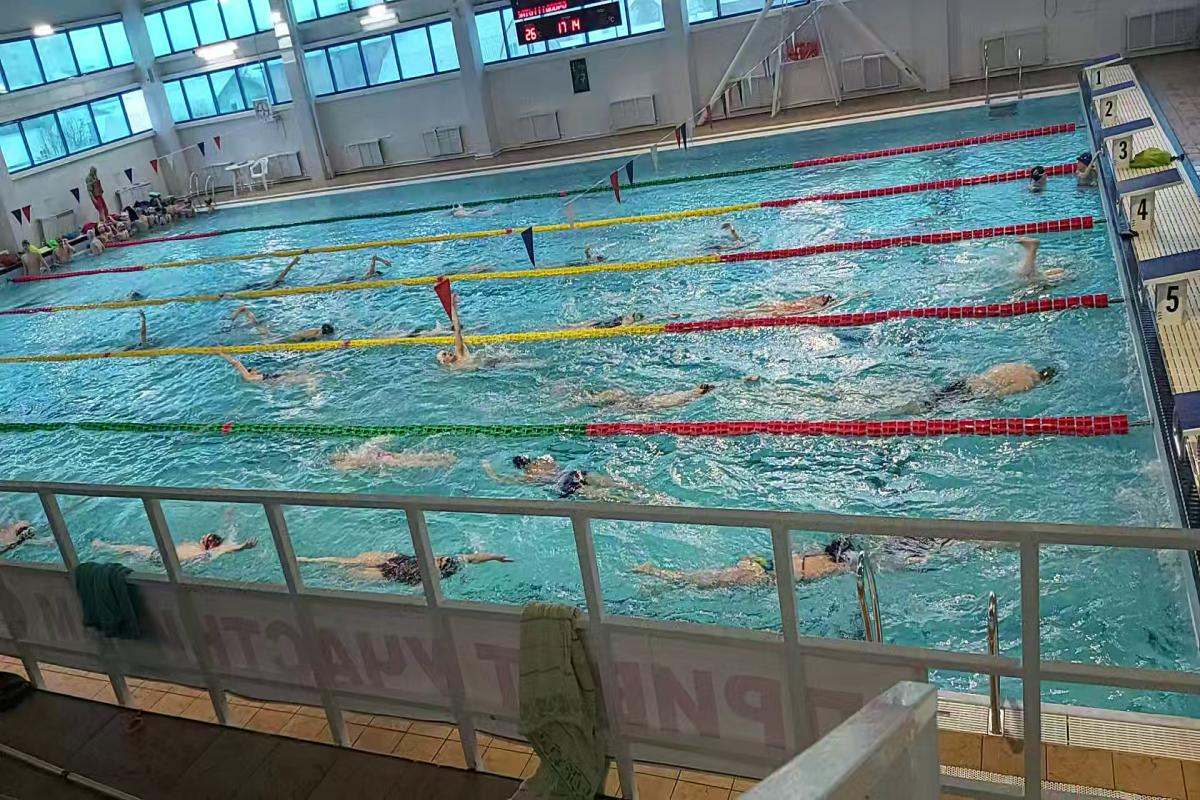swimmer: (649, 518, 896, 585), (302, 532, 507, 592), (918, 353, 1058, 413), (494, 446, 646, 501), (91, 527, 265, 568), (316, 432, 462, 477), (612, 368, 737, 416), (202, 350, 321, 392), (442, 311, 510, 376), (1010, 231, 1068, 298), (743, 282, 867, 312), (4, 515, 45, 562), (578, 308, 653, 330), (281, 318, 350, 341), (228, 302, 269, 336), (1027, 158, 1057, 201), (262, 264, 304, 288), (363, 251, 397, 279)
